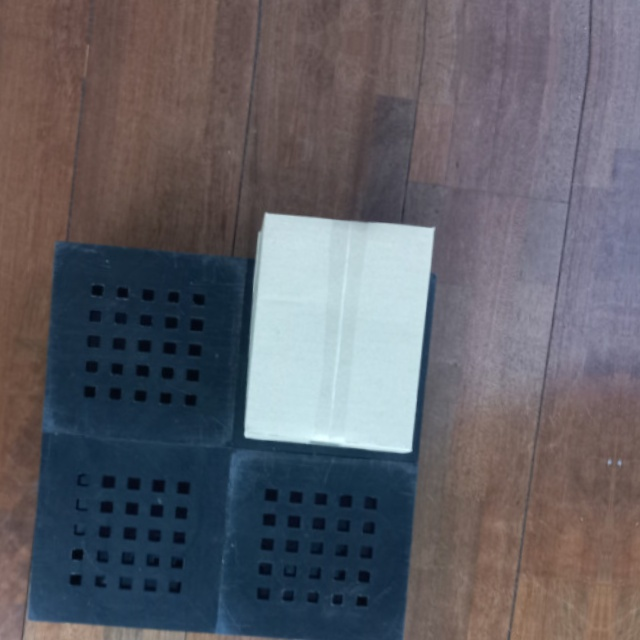box: (239, 208, 437, 454)
pallet: (19, 233, 442, 639)
